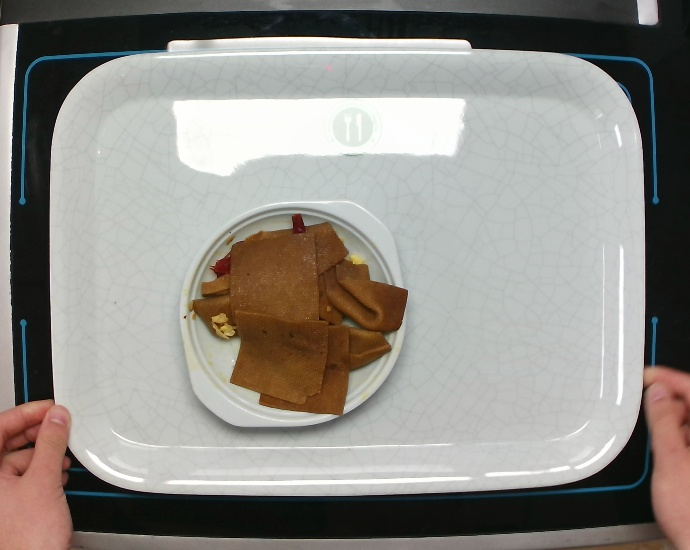JYsf-Shuang_Er_Pan: (174, 187, 418, 441)
